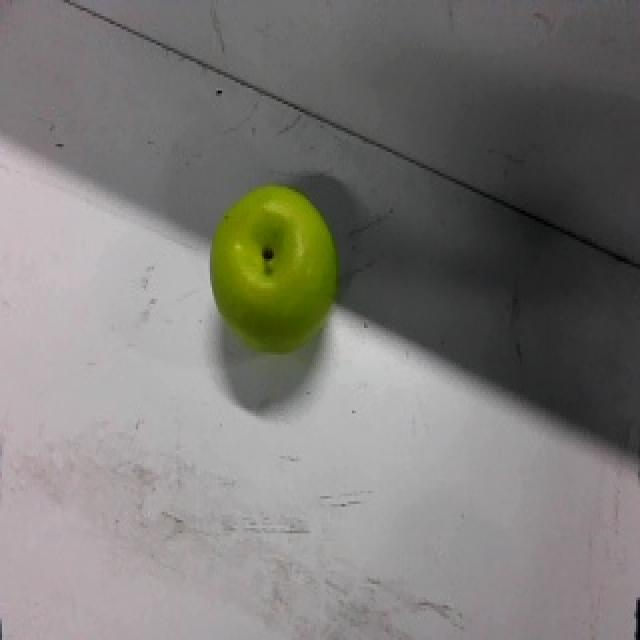apple: (208, 180, 340, 356)
